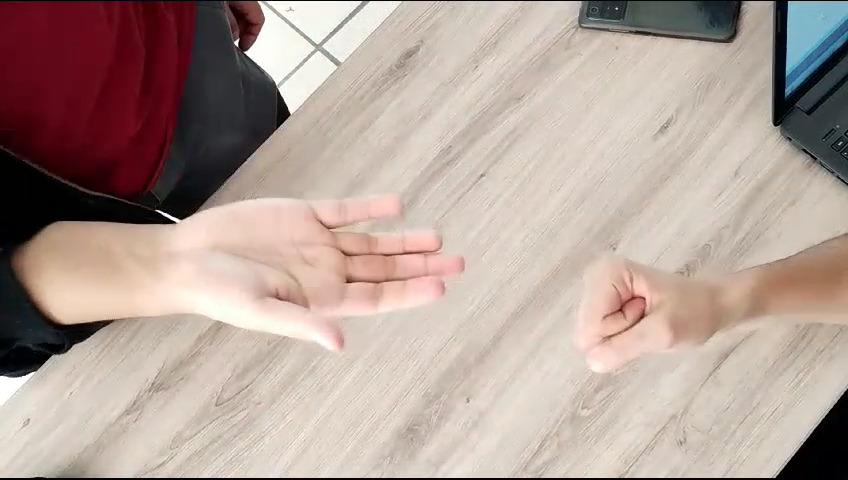Paper: (182, 183, 482, 371)
Stone: (555, 224, 750, 392)
